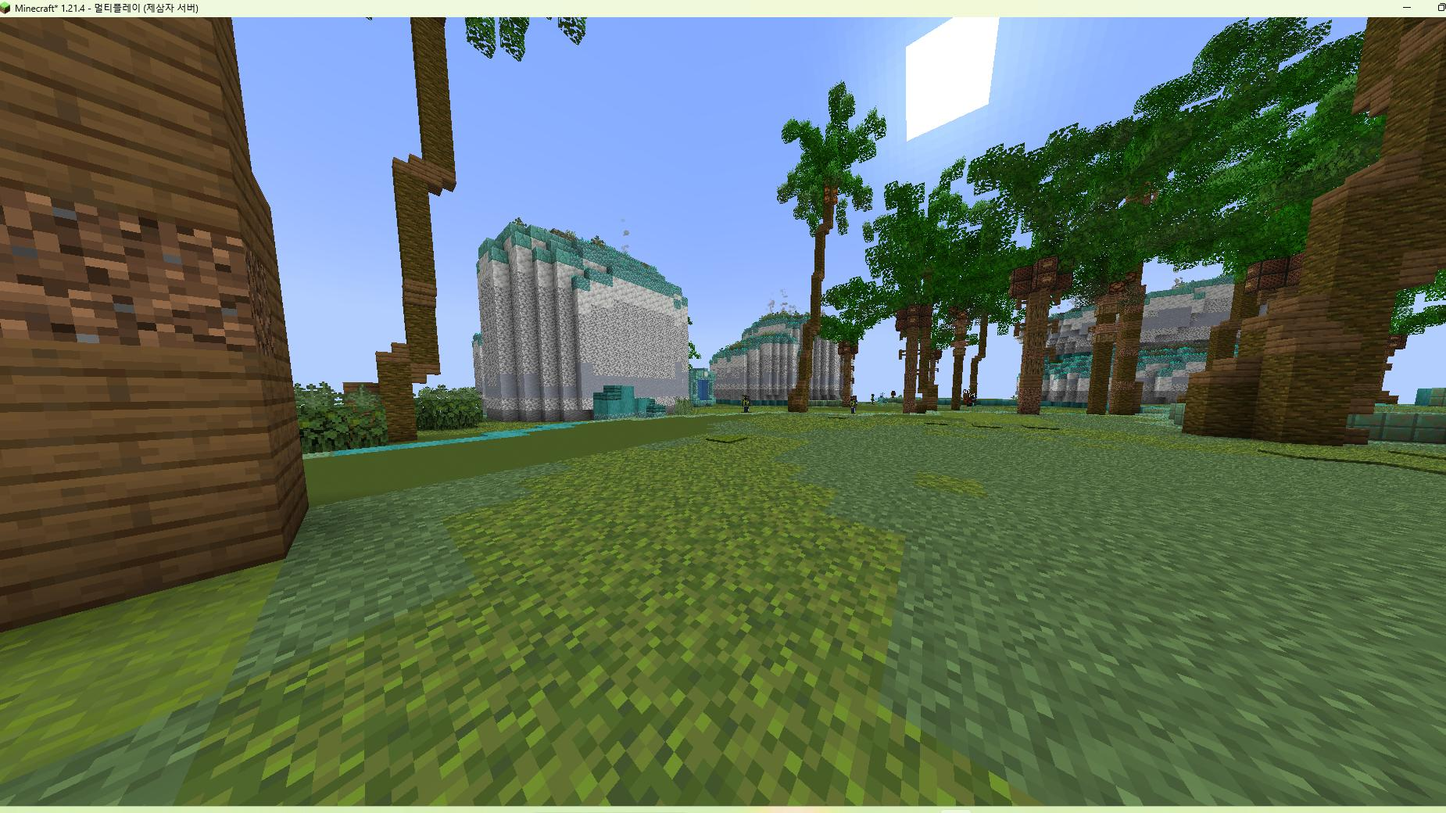Guardian: (743, 394, 750, 412), (851, 395, 857, 415)
